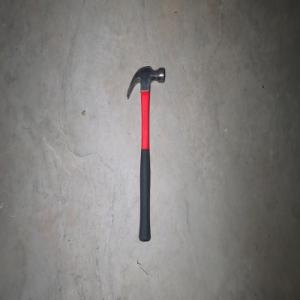Hammer: (125, 65, 165, 242)
